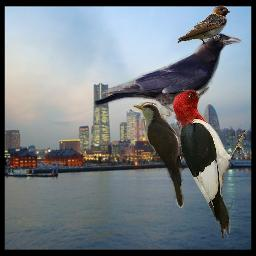Crow: (92, 31, 243, 139)
Cuckoo: (133, 102, 186, 209)
Swallow: (175, 5, 231, 46)
Woodpecker: (171, 84, 250, 238)
